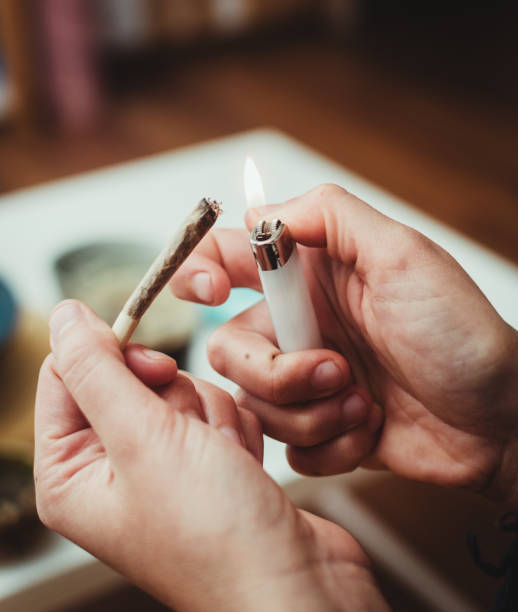cigarette: (107, 195, 222, 344)
